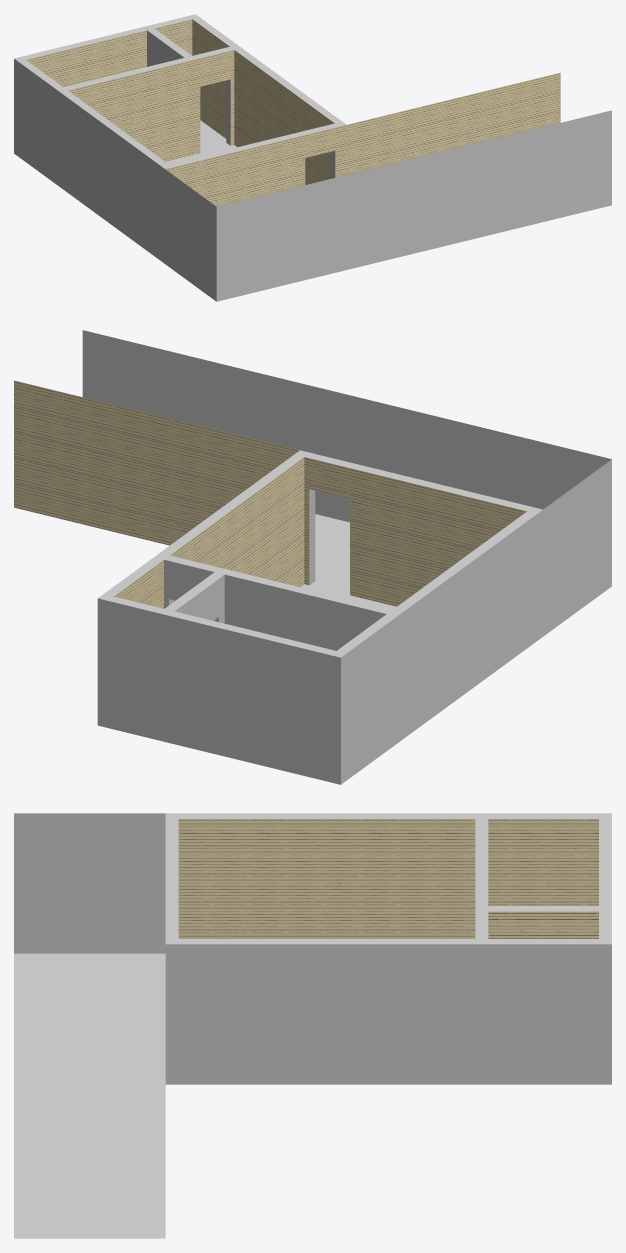
Rendered from COMM690_Proj_3.obj.
The picture shows the model from 3 angles, top to bottom: view 1: azimuth 30°, elevation 25°; view 2: azimuth 150°, elevation 25°; view 3: azimuth 270°, elevation 25°; orthographic projection. The views are drawn at different scales.
Parts seen in each view (by area): view 1: Mesh1 Model; view 2: Mesh1 Model; view 3: Mesh1 Model.
Part boxes in pixels (bbox=[...]): Mesh1 Model: bbox=[14, 14, 611, 301]; Mesh1 Model: bbox=[14, 330, 611, 784]; Mesh1 Model: bbox=[14, 813, 611, 1238].
Bounding box in the file's own units: 522 × 120 × 464.
